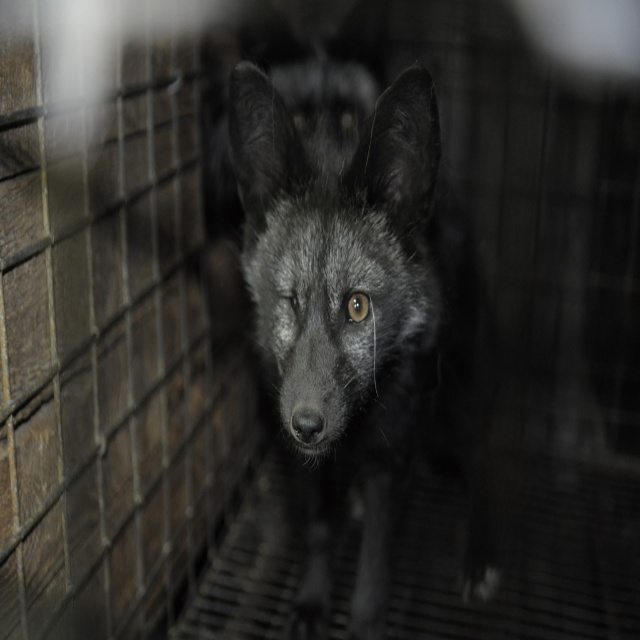Fox: (208, 57, 506, 639)
